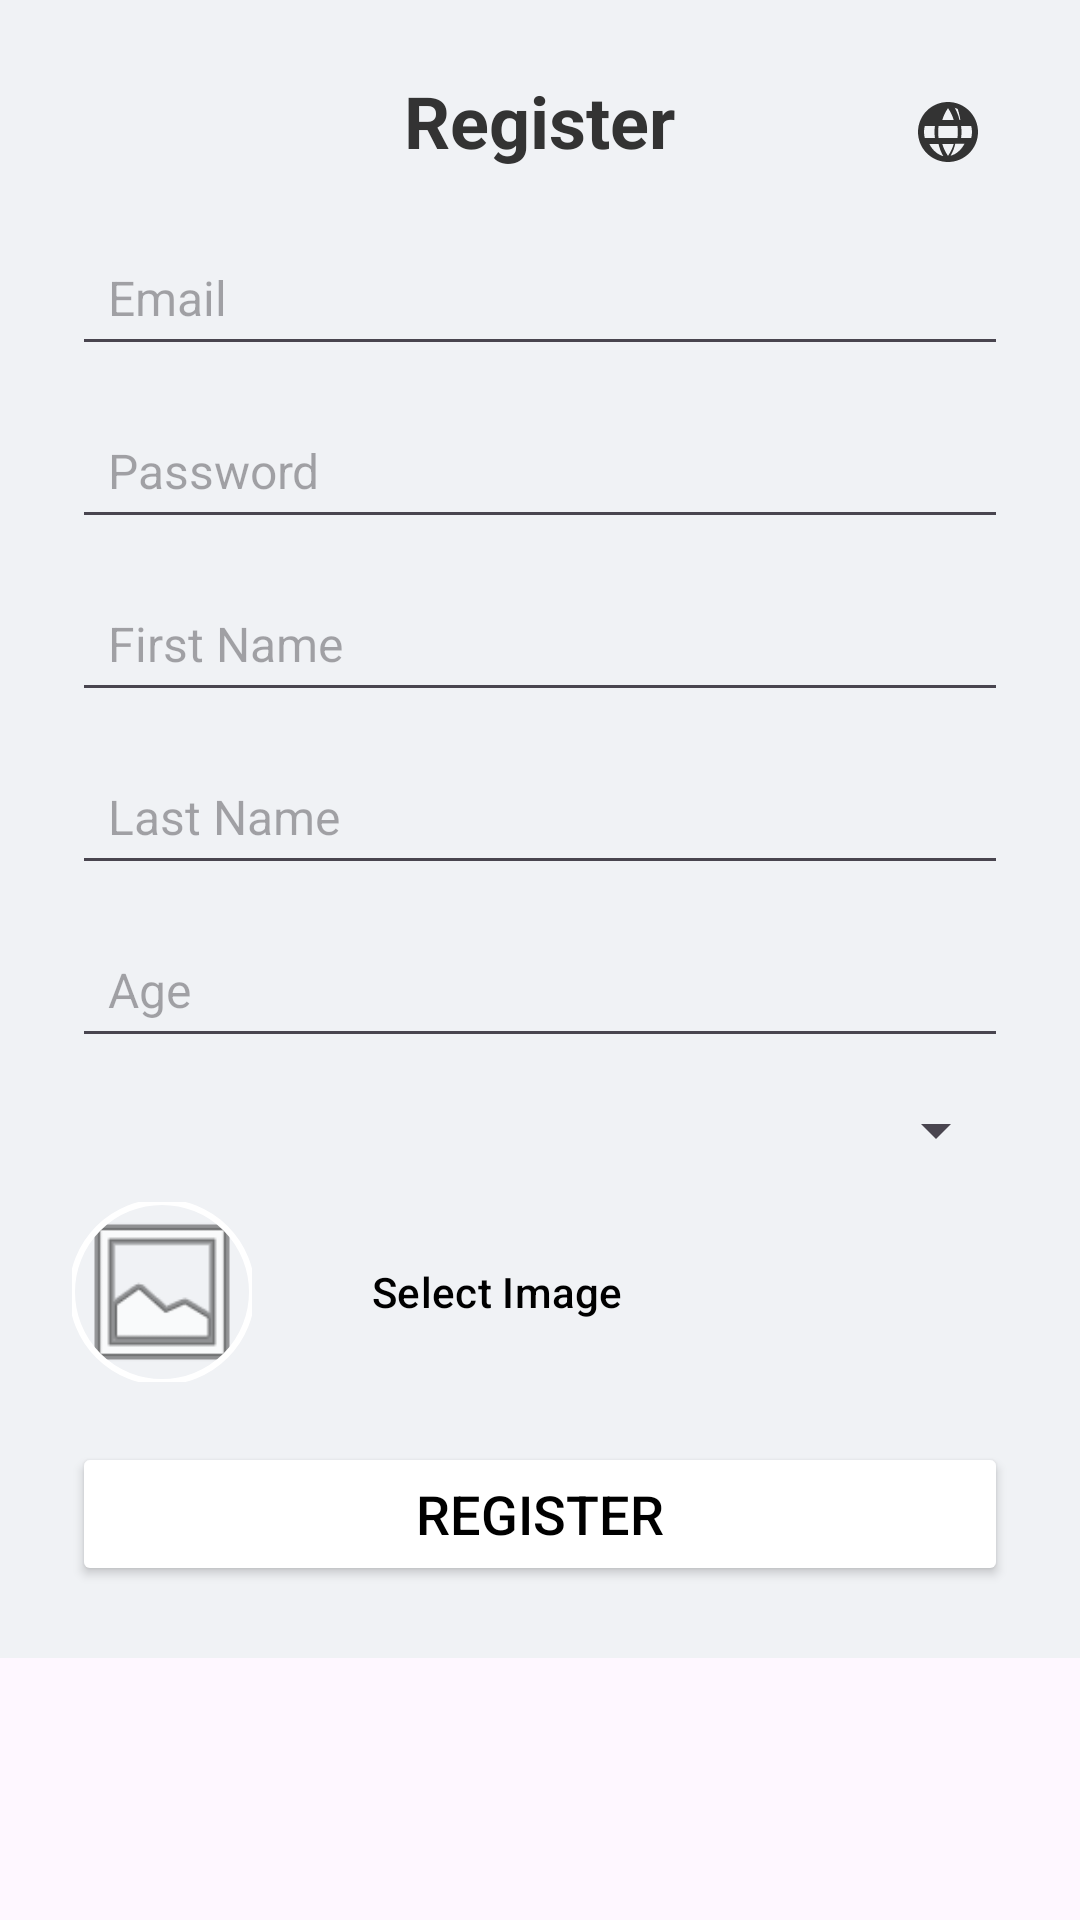

Point at icon controls on the screen. Image size 1080px×1920px, points as [x,y].
gallery: [162,1292]
language: [948,132]
